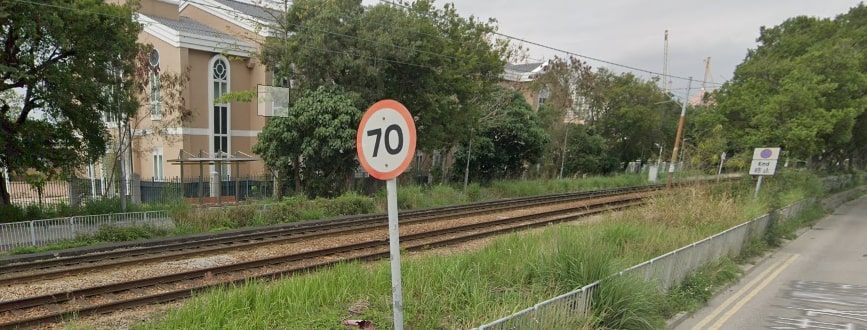Speed Limit: (349, 99, 416, 180)
